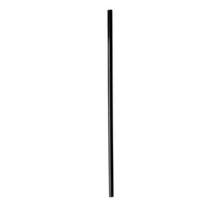drinking_straw: (101, 4, 118, 203)
